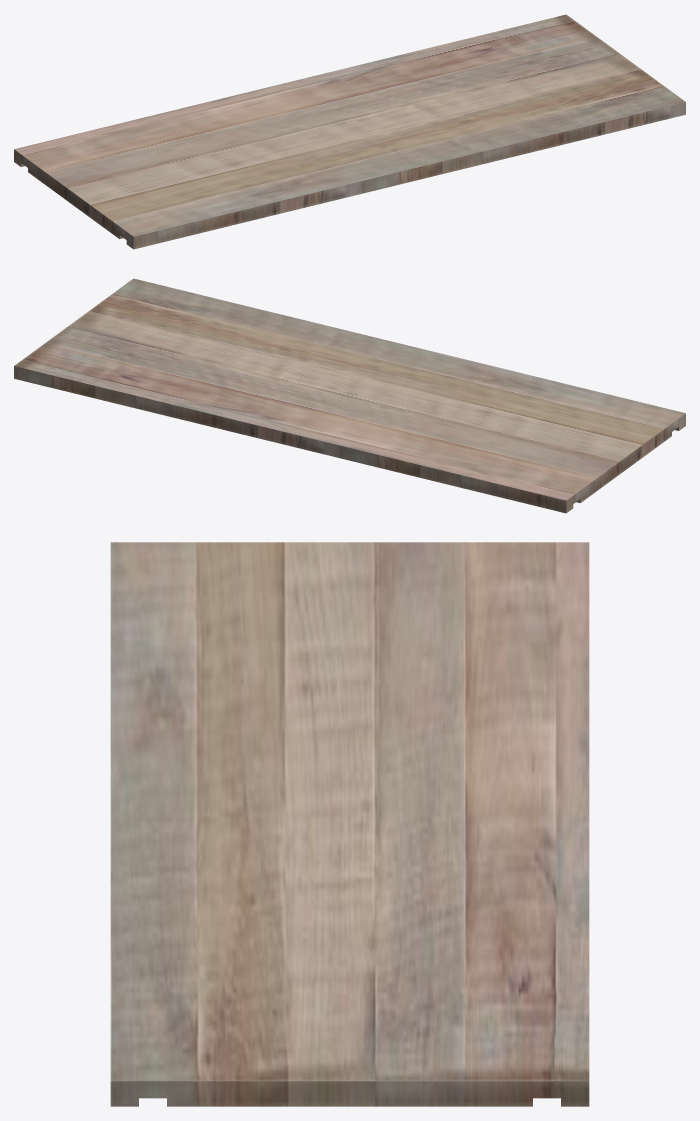
The model's file is original-34.obj.
3 views of the same model, one above another, from view 1: azimuth 30°, elevation 25°; view 2: azimuth 150°, elevation 25°; view 3: azimuth 270°, elevation 25° (orthographic). The views are drawn at different scales.
Visible parts, largest first — view 1: Bottom1/Bottom/mesh54/mesh54-geometry#mesh54-geometry; view 2: Bottom1/Bottom/mesh54/mesh54-geometry#mesh54-geometry; view 3: Bottom1/Bottom/mesh54/mesh54-geometry#mesh54-geometry.
Part boxes in pixels (box(x1,y1,x2,y2)): Bottom1/Bottom/mesh54/mesh54-geometry#mesh54-geometry: box(14, 14, 685, 249); Bottom1/Bottom/mesh54/mesh54-geometry#mesh54-geometry: box(14, 278, 685, 513); Bottom1/Bottom/mesh54/mesh54-geometry#mesh54-geometry: box(110, 542, 589, 1106).
Bounding box in the file's own units: 1.24 × 0.0273 × 0.4638.
